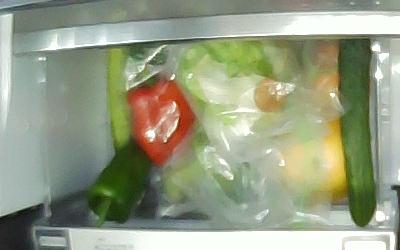broccoli_vinyl: (161, 132, 247, 205)
cucumber: (338, 39, 376, 228), (106, 46, 132, 154)
grapefruit_vinyl: (282, 115, 346, 200)
lettuce_vinyl: (174, 40, 288, 139)
paprika: (88, 140, 150, 228)
paprika_vinyl: (128, 74, 195, 166)
